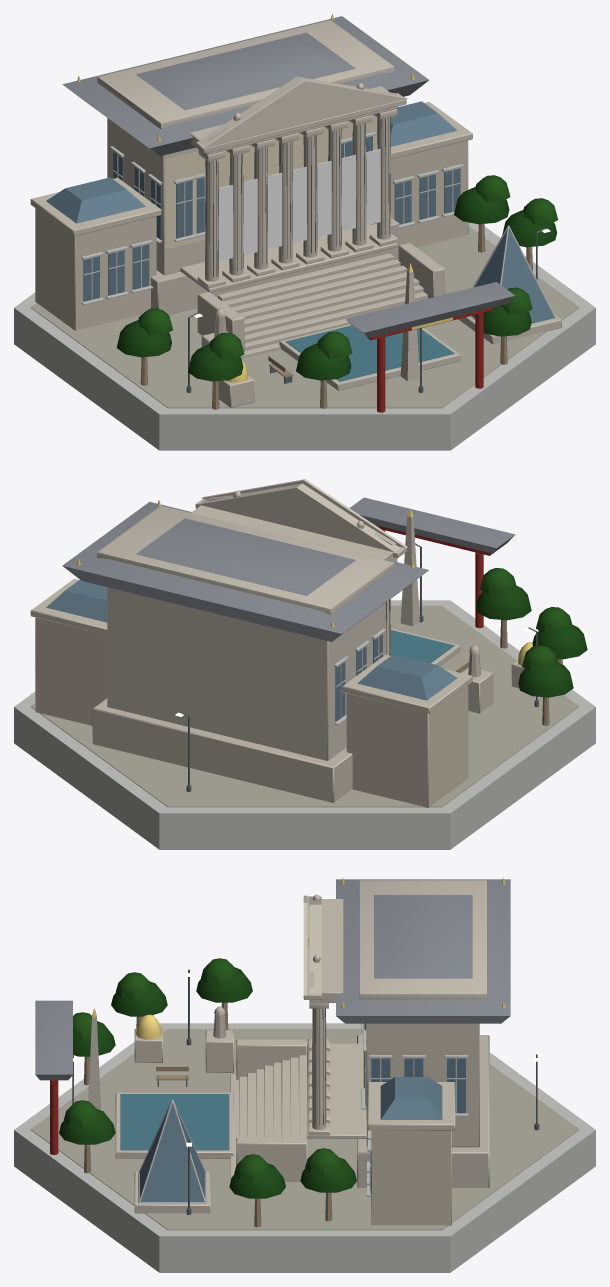
The model's file is museum_asia.glb.
3 renders of one model, top to bottom at view 1: azimuth 30°, elevation 25°; view 2: azimuth 150°, elevation 25°; view 3: azimuth 270°, elevation 25°, orthographic.
Parts seen in each view (by area): view 1: stone, wall_concrete, pavers, roof_slate, glass, leaf, banner, plaster, dark, paint, wood, metal; view 2: stone, wall_concrete, roof_slate, pavers, glass, leaf, paint, wood; view 3: stone, wall_concrete, pavers, roof_slate, glass, leaf, wood, metal, gold, paint, steel_dark, dark.
Part boxes in pixels (x1,y1,x2,y2): stone: (30,20,561,407); wall_concrete: (14,132,595,450); pavers: (30,226,579,408); roof_slate: (62,16,515,337); glass: (46,101,554,381); leaf: (116,175,557,381); banner: (218,149,380,261); plaster: (165,114,377,249); dark: (205,117,390,276); paint: (368,307,493,412); wood: (140,224,532,409); metal: (470,225,556,325); stone: (30,479,524,807); wall_concrete: (14,600,595,849); roof_slate: (62,497,515,641); pavers: (30,605,579,807); glass: (46,580,457,721); leaf: (476,568,587,697); paint: (375,525,492,628); wood: (456,620,562,725); stone: (88,880,489,1225); wall_concrete: (14,1023,595,1272); pavers: (30,1029,579,1230); roof_slate: (35,879,510,1080); glass: (120,1023,465,1202); leaf: (59,958,356,1198); wood: (84,1002,332,1227); metal: (138,1099,206,1203); gold: (92,878,505,1088); paint: (50,1080,58,1154); steel_dark: (72,969,539,1214); dark: (312,1008,366,1125).
Size of the model in its own units: 21.94 by 12.3 by 24.6.
